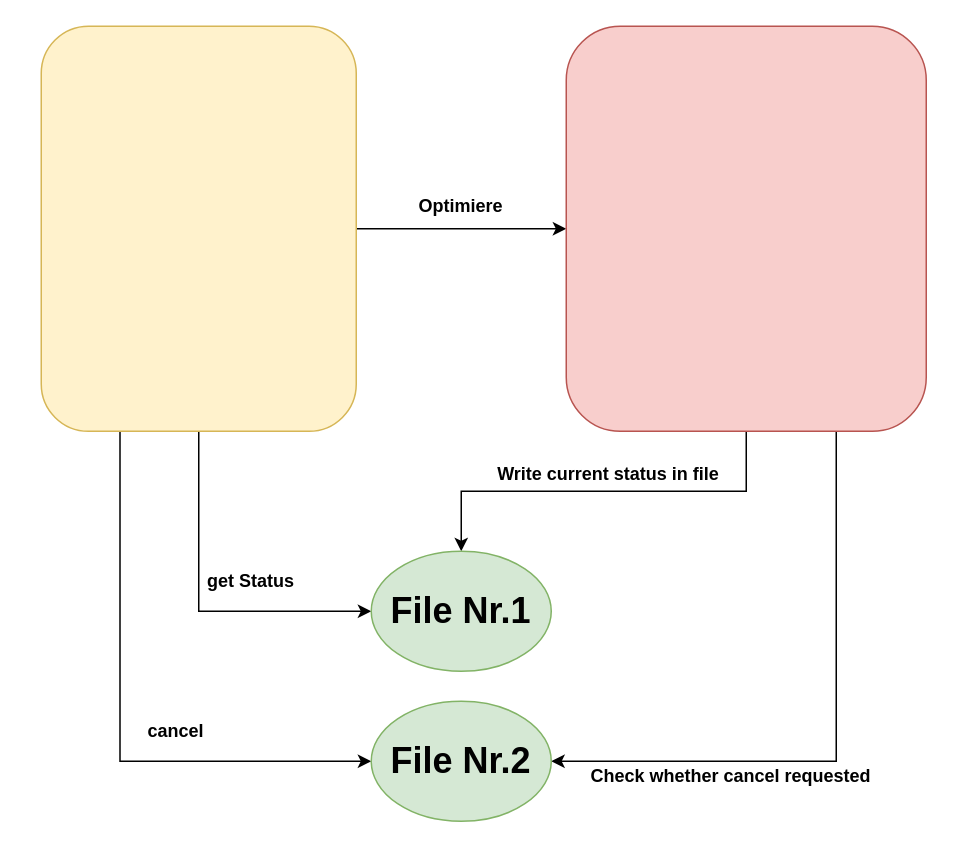
Image size: 953x848. Some labels were removed from this diagram. Each missing label, with the box of its shape:
R Process Nr.2: (565, 25, 926, 431)
Shiny App R Process Nr.1: (40, 25, 356, 431)
